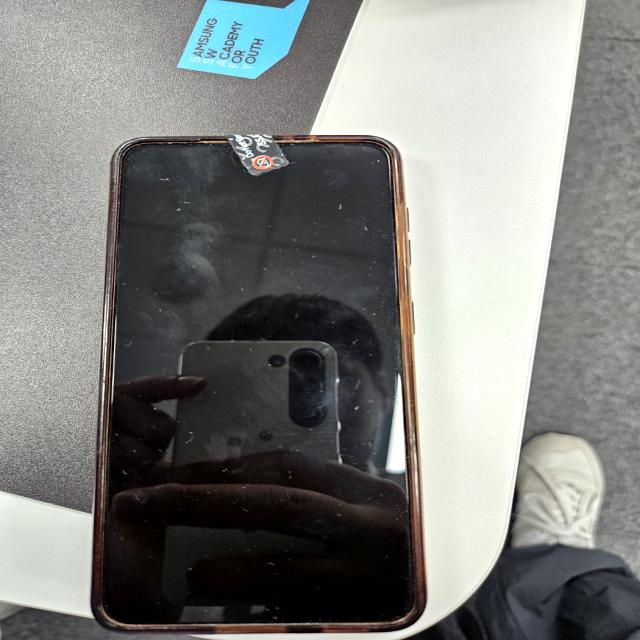phone: (95, 135, 428, 639)
removed_sticker: (229, 135, 289, 177)
